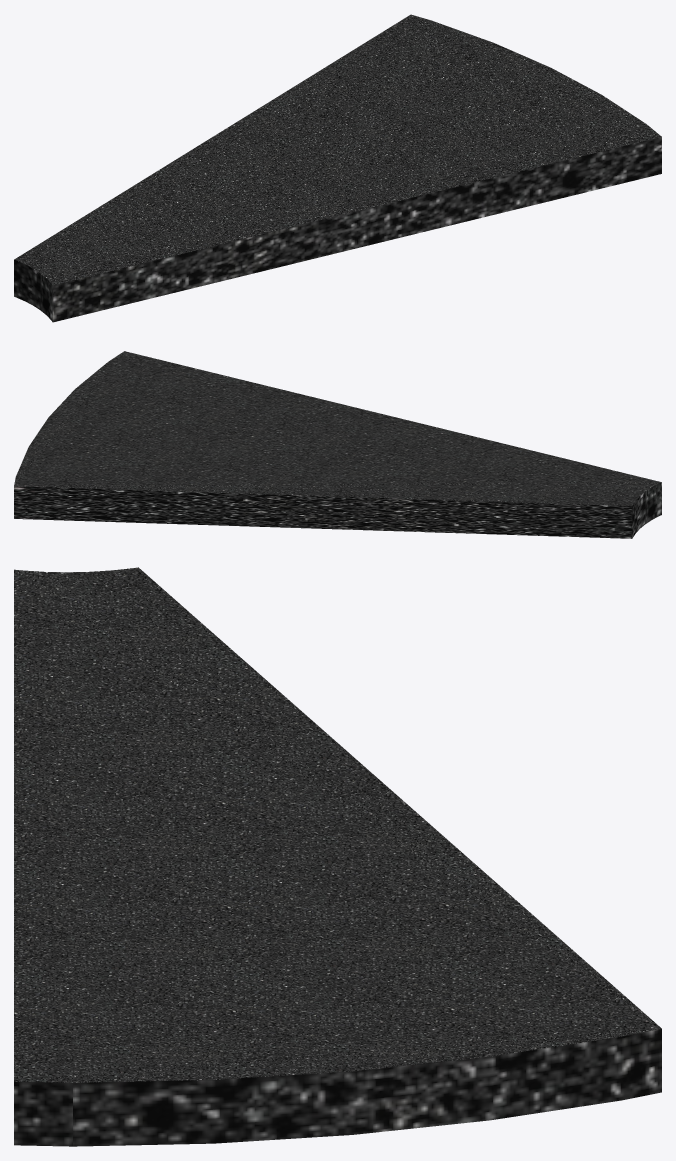
The model's file is curve_smallest.FBX.
The picture shows the model from 3 angles, top to bottom: view 1: azimuth 30°, elevation 25°; view 2: azimuth 150°, elevation 25°; view 3: azimuth 270°, elevation 25°; orthographic projection. The views are drawn at different scales.
Visible parts, largest first — view 1: Box005; view 2: Box005; view 3: Box005.
Part boxes in pixels (x1,y1,x2,y2): Box005: (14,14,661,322); Box005: (14,351,661,538); Box005: (14,567,661,1146).
Bounding box in the file's own units: 104 × 6 × 55.25.
